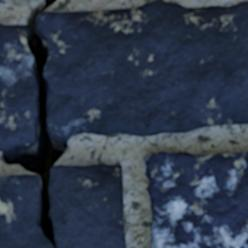brick: (143, 152, 247, 247)
broken_brick: (39, 0, 247, 140), (50, 164, 126, 247), (0, 22, 35, 151), (0, 174, 52, 247)
crack: (0, 0, 69, 247)
